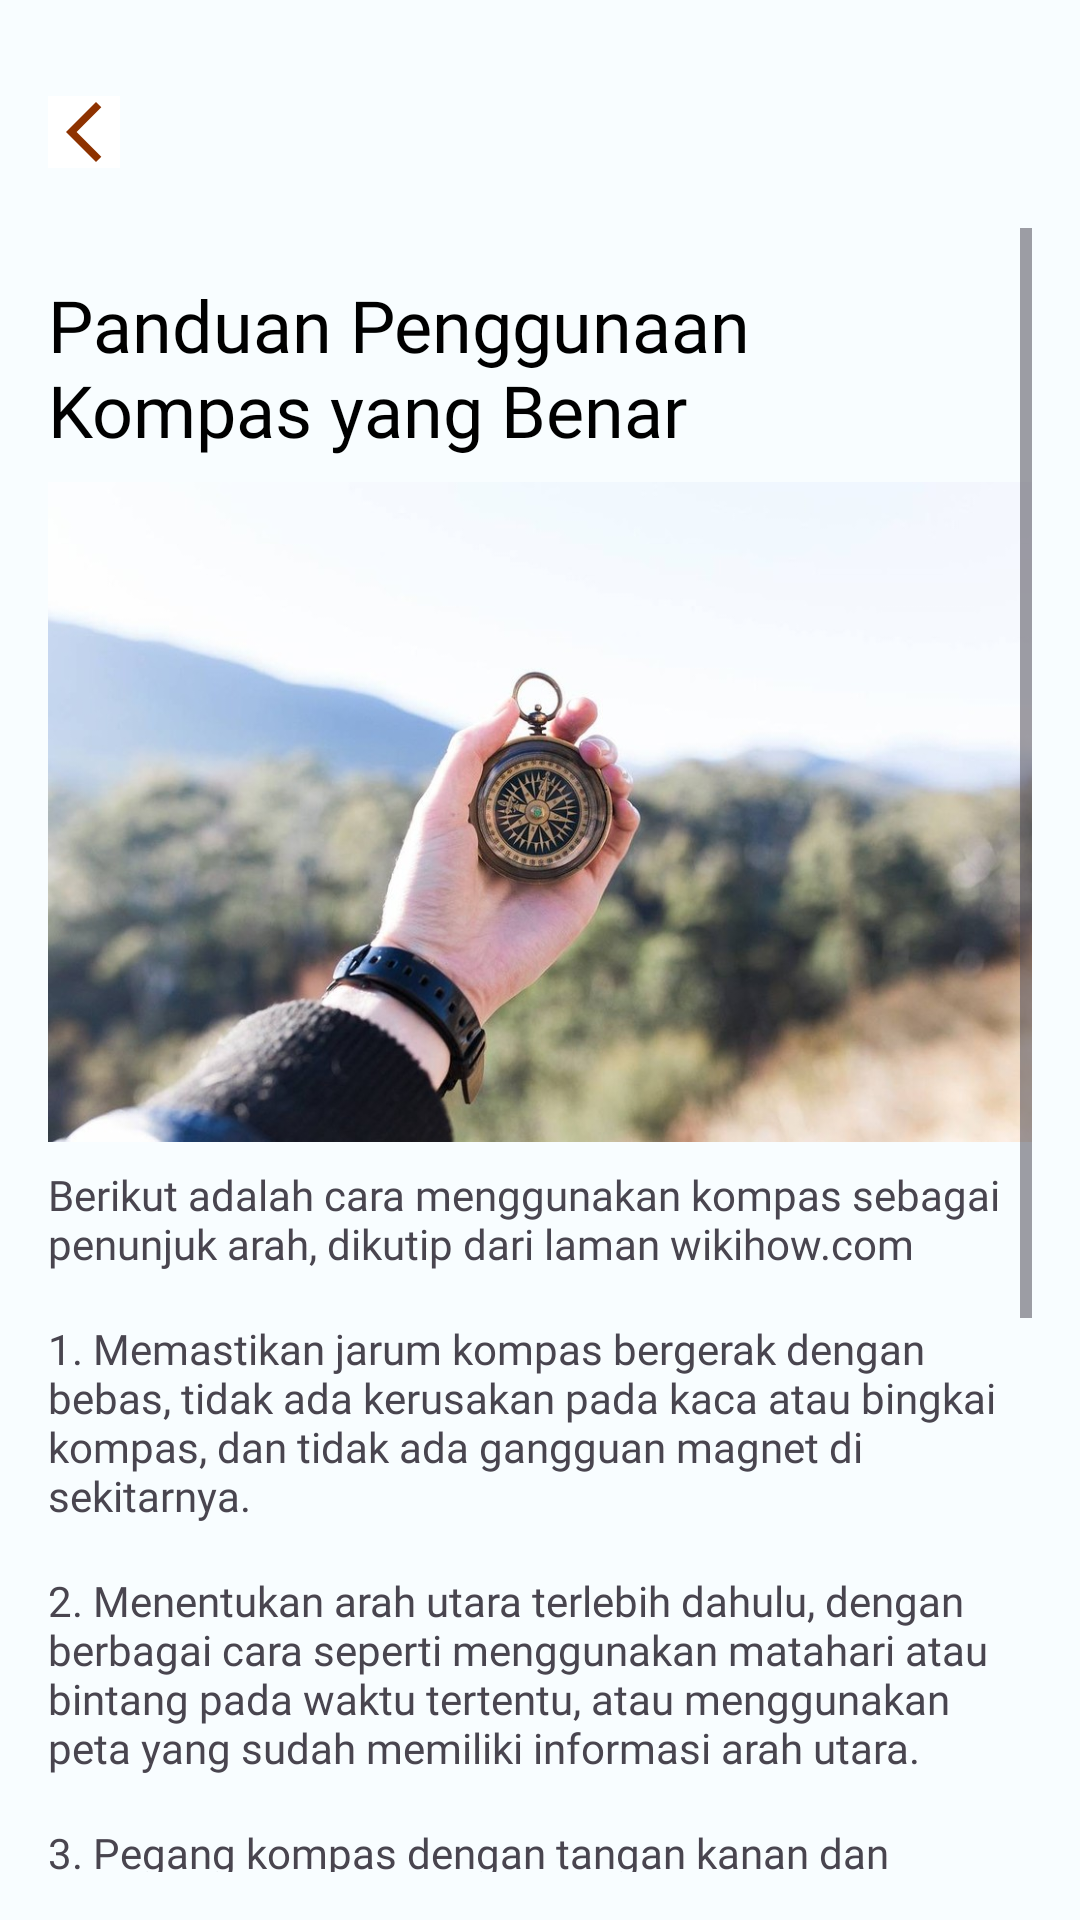

Locate icon controls on the screen. Image size 1080px x 1920px, boxes as (x1=x1, y1=y1, x2=x2, y2=y2).
back: (x1=66, y1=102, x2=101, y2=162)
